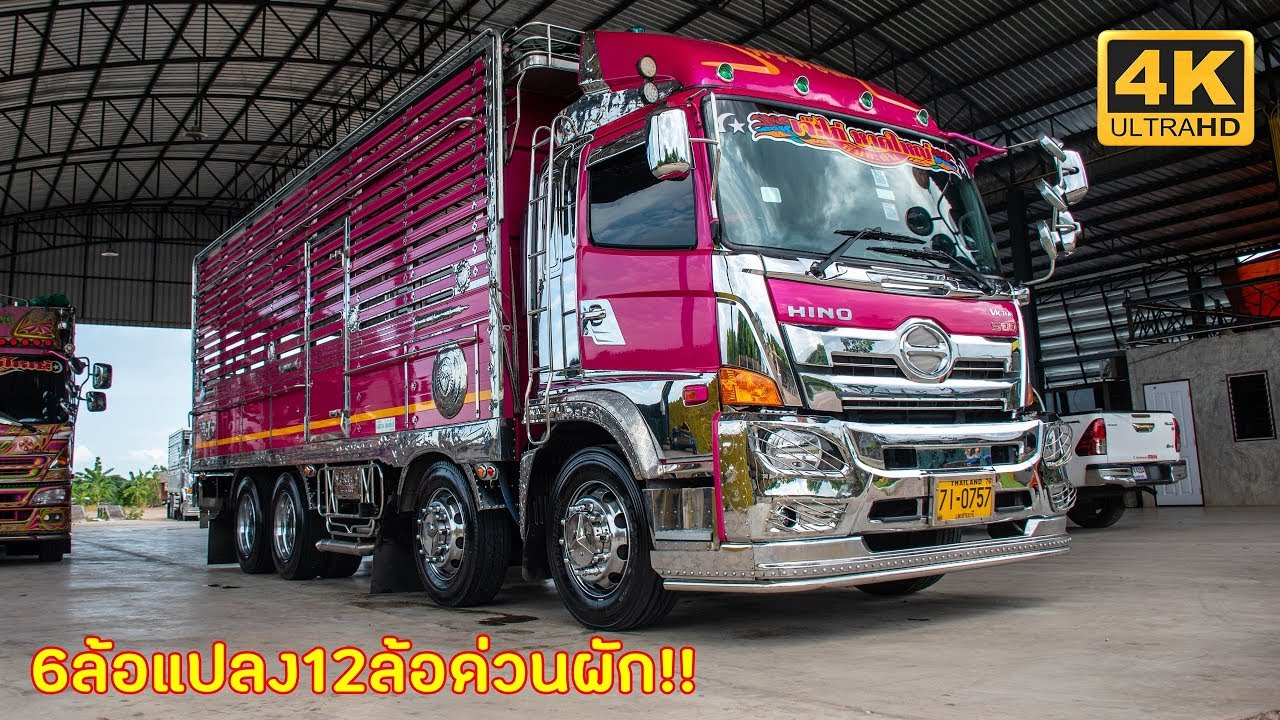truck: (295, 32, 1080, 629)
